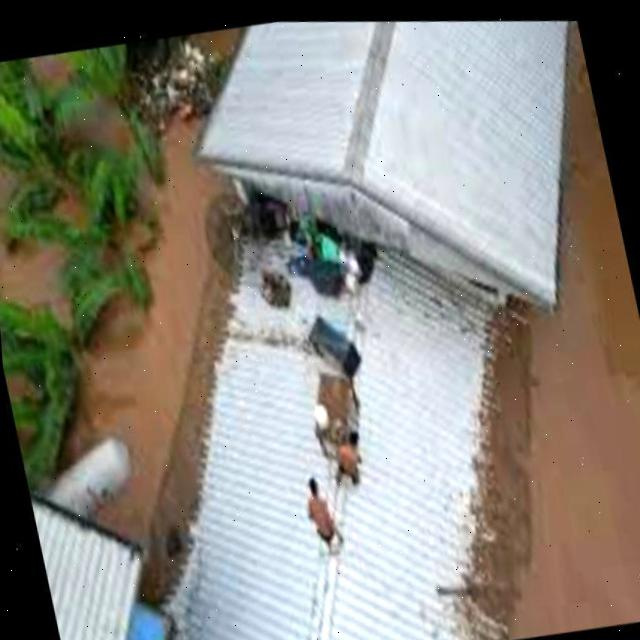civilian: (294, 471, 346, 554), (338, 426, 366, 486)
